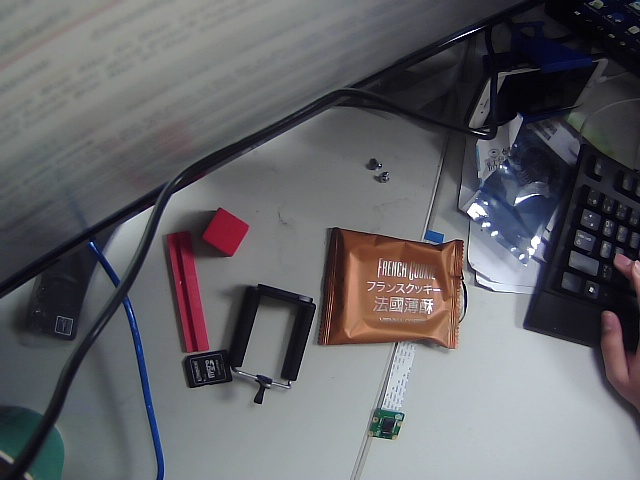frenchcookie: (319, 214, 469, 364)
